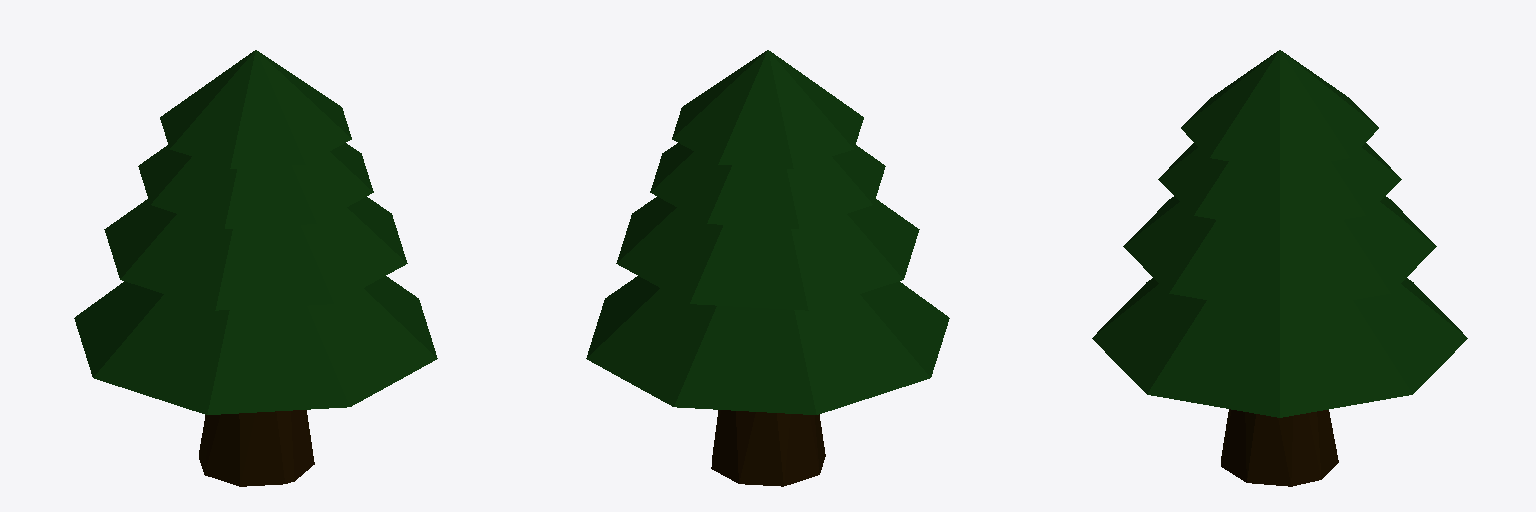
File: pinetree.obj
3 renders of one model, left to right at view 1: azimuth 30°, elevation 25°; view 2: azimuth 150°, elevation 25°; view 3: azimuth 270°, elevation 25°, orthographic.
Parts seen in each view (by area): view 1: Cone, Cylinder; view 2: Cone, Cylinder; view 3: Cone, Cylinder.
Part boxes in pixels (x1,y1,x2,y2): Cone: (74, 50, 437, 414); Cylinder: (199, 410, 314, 486); Cone: (586, 50, 949, 414); Cylinder: (711, 410, 825, 486); Cone: (1092, 50, 1467, 417); Cylinder: (1221, 409, 1338, 486).
Bounding box in the file's own units: 2.62 × 3.17 × 2.62.